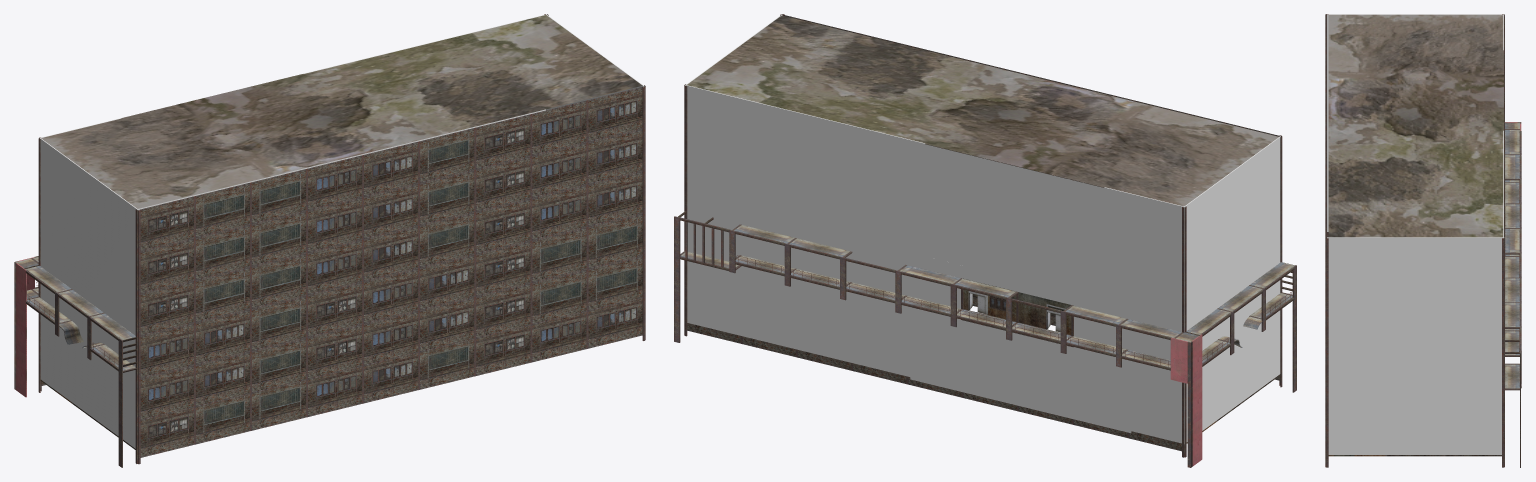
Rendered from A3_Exterior.fbx.
The picture shows the model from 3 angles, left to right: view 1: azimuth 30°, elevation 25°; view 2: azimuth 150°, elevation 25°; view 3: azimuth 270°, elevation 25°; orthographic projection. The views are drawn at different scales.
Visible parts, largest first — view 1: Apt3_HD, Apt3_Roof, Cube (8), A3_MetalBlock, Cube (1); view 2: Cube (1), Apt3_Roof, A3_MetalBlock, Cube (8), Cube (3), Cube (2), Cube (5), Cube (6), Apt3_HD, Cube, Cube (4), MetalWall_02; view 3: Apt3_Roof, Cube (7), A3_MetalBlock, Apt3_HD, Cube (8), L_Floor.
Boxes of the visible parts, x1,y1,x2,y2 form: Apt3_HD: (38,14,645,464); Apt3_Roof: (41,15,642,208); Cube (8): (39,138,138,448); A3_MetalBlock: (14,256,136,467); Cube (1): (303,14,545,169); Cube (1): (686,85,924,380); Apt3_Roof: (686,15,1278,206); A3_MetalBlock: (674,211,1296,467); Cube (8): (1183,136,1280,443); Cube (3): (910,320,1131,433); Cube (2): (910,200,1131,319); Cube (5): (1104,187,1183,443); Cube (6): (910,141,1131,257); Apt3_HD: (684,14,1282,457); Cube: (922,255,962,330); Cube (4): (1074,293,1113,351); MetalWall_02: (1018,292,1071,334); Apt3_Roof: (1328,14,1503,237); Cube (7): (1327,237,1504,454); A3_MetalBlock: (1326,122,1521,467); Apt3_HD: (1325,14,1504,467); Cube (8): (1327,14,1504,231); L_Floor: (1505,182,1519,206).
Bounding box in the file's own units: 74.16 × 34.31 × 26.58.
